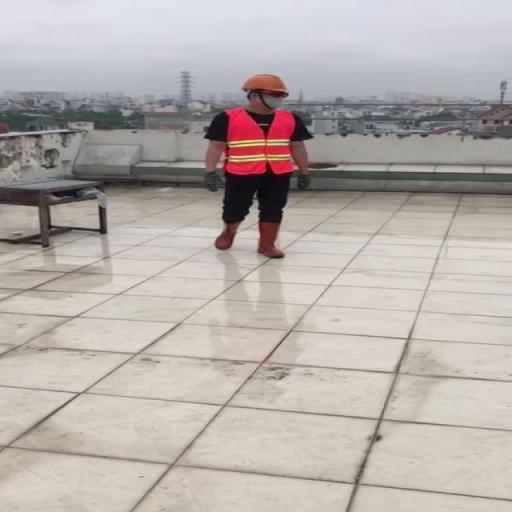Boots: (254, 222, 285, 257), (208, 221, 242, 251)
Helmet: (236, 71, 293, 96)
Person: (200, 70, 314, 260)
